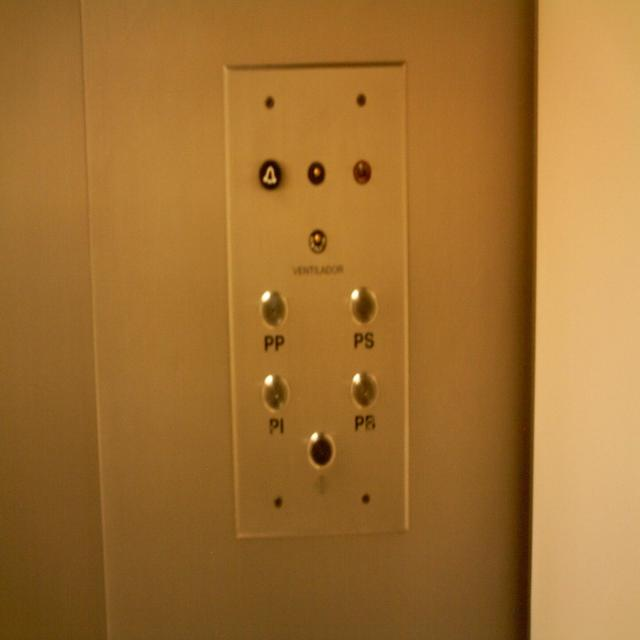alarm: (257, 158, 283, 193)
empty: (348, 284, 378, 330), (348, 369, 379, 411), (258, 288, 288, 331), (306, 431, 336, 471), (261, 375, 290, 415)
indicator: (352, 159, 371, 184), (308, 228, 326, 254), (307, 161, 325, 184)
